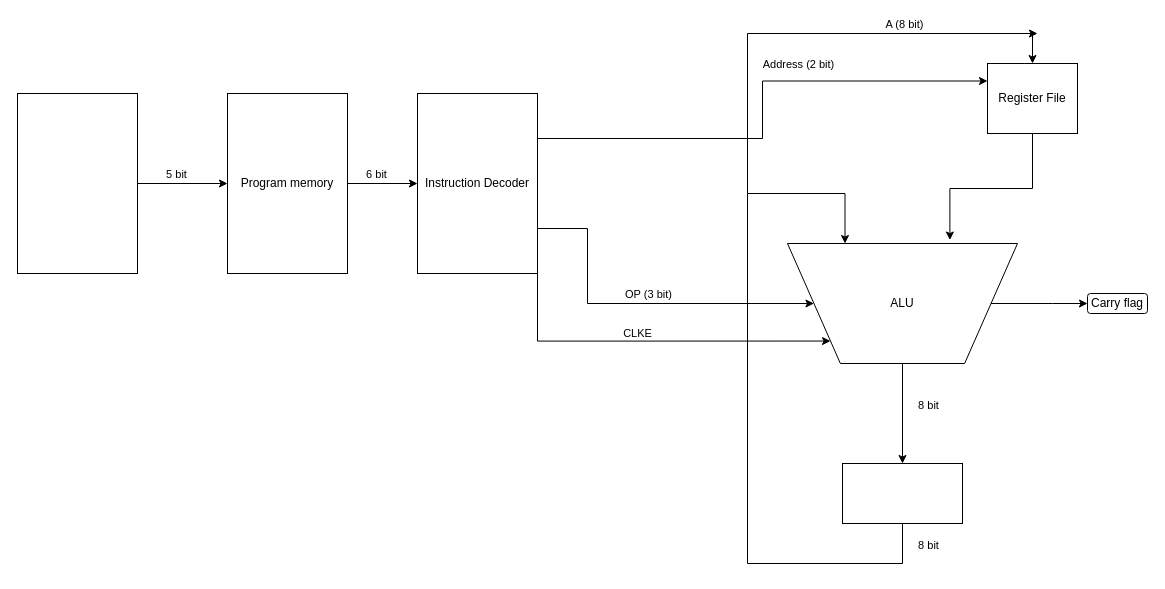
This 1165x589 diagram has some shape labels left out. Here are the shapes that lost their labels. From the top down, the box of each, then its label:
(16, 92, 138, 274): Program Counter
(842, 462, 962, 524): Accumulator
